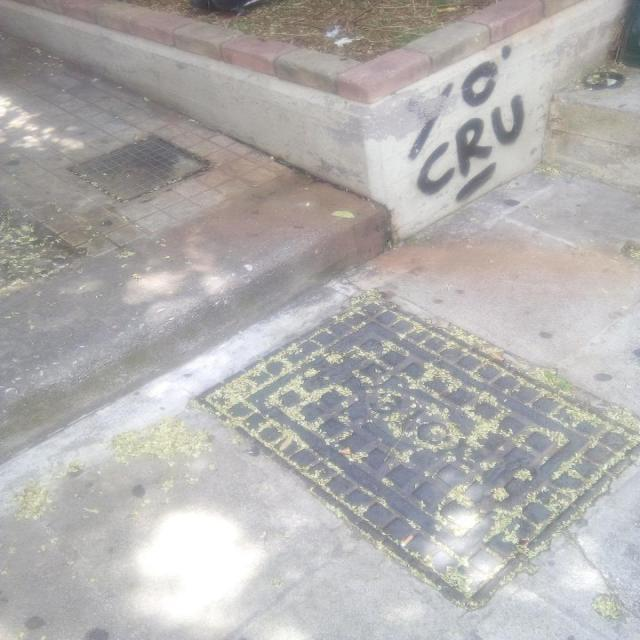nonspitting: (407, 42, 527, 204)
